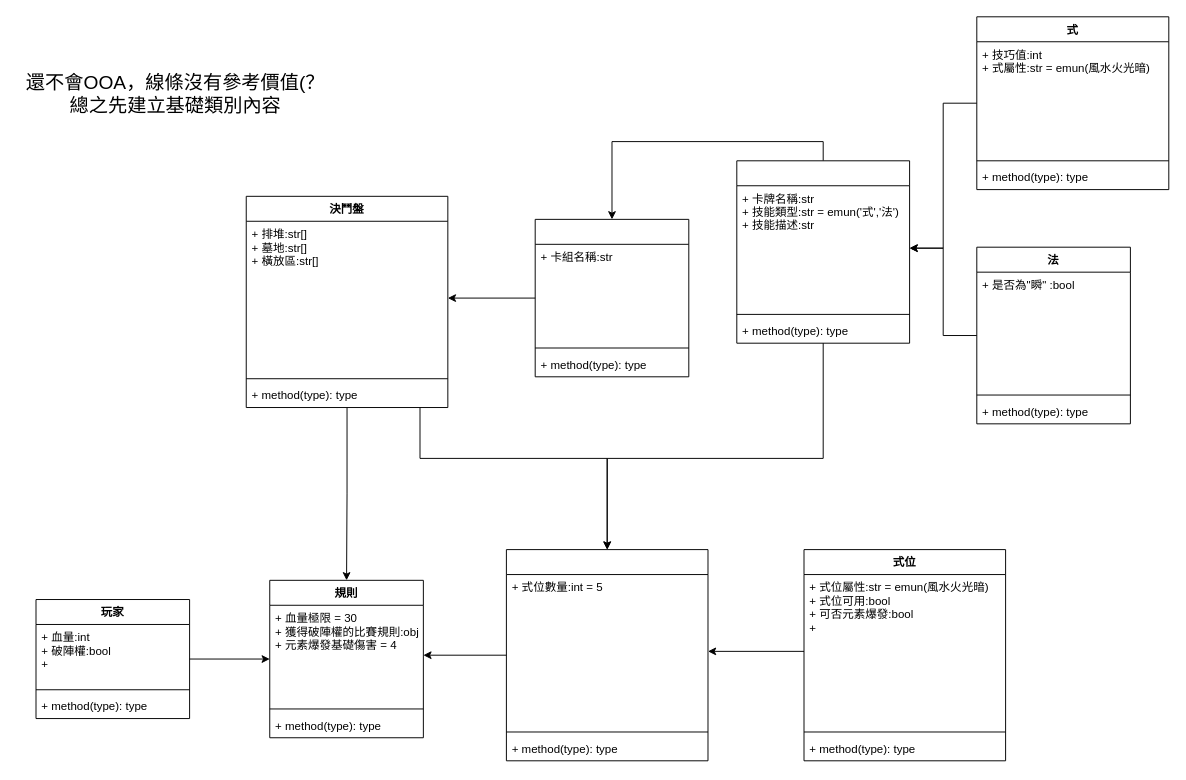
Image size: 1186x780. Some labels were removed from this diagram. Each missing label, with the box of its shape:
元素盤: (505, 549, 708, 761)
卡牌: (736, 160, 910, 343)
卡組: (534, 218, 689, 377)
